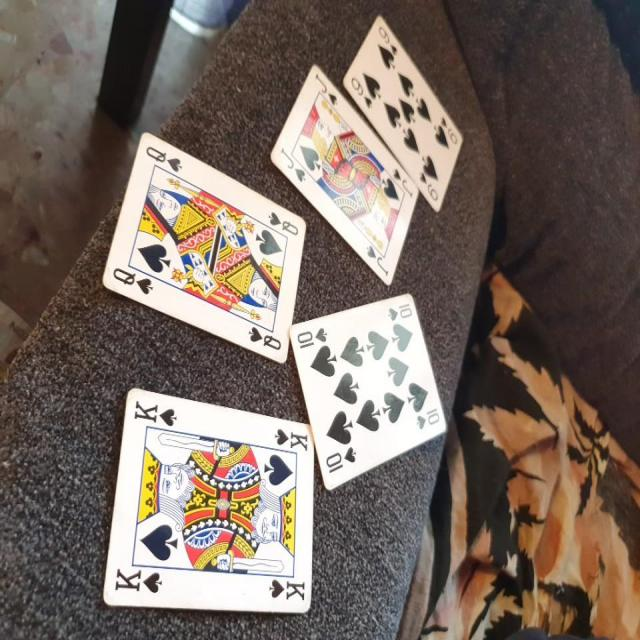10 Spades: (284, 288, 457, 495)
9 Spades: (335, 11, 466, 217)
J Spades: (262, 61, 424, 286)
K Spades: (94, 383, 324, 614)
Q Spades: (97, 128, 308, 365)
